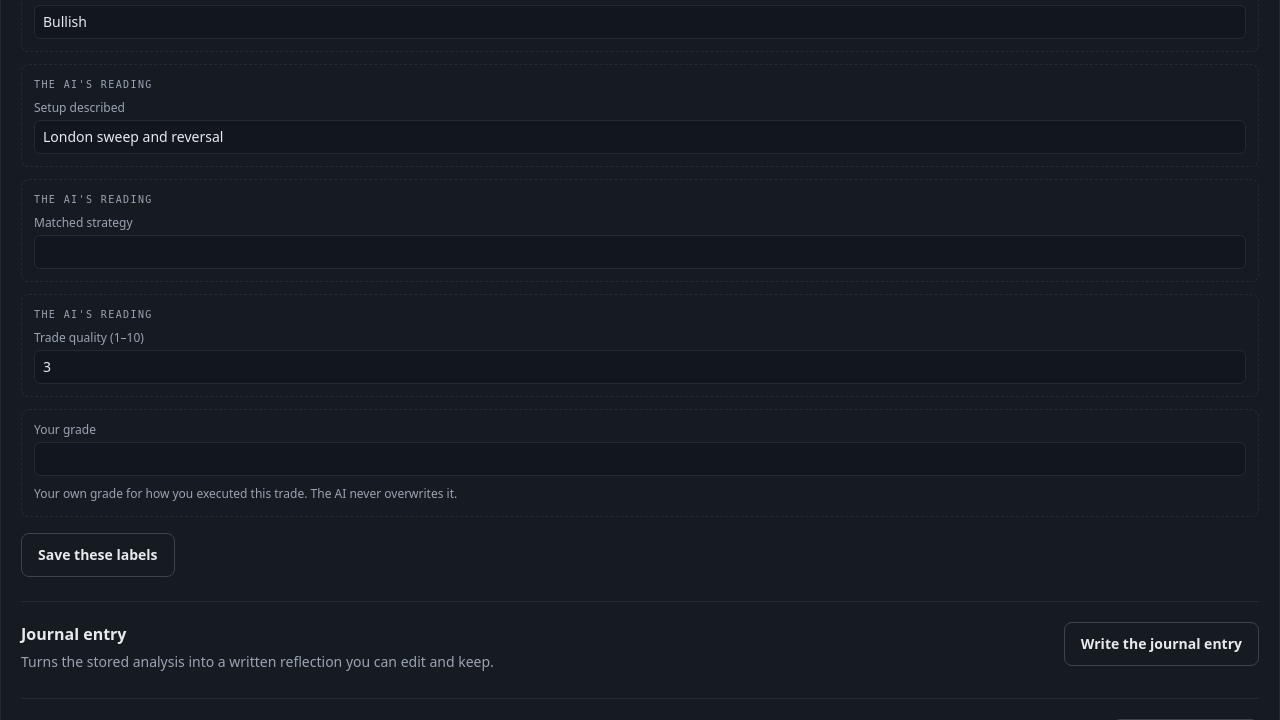
AIReviewPanel › surfaces the backend's 409 sentence if the analysis vanished under a journal run
(page scrolled)
Click the button "Write the journal entry" at {"x": 1161, "y": 644}, box [1064, 622, 1259, 666]
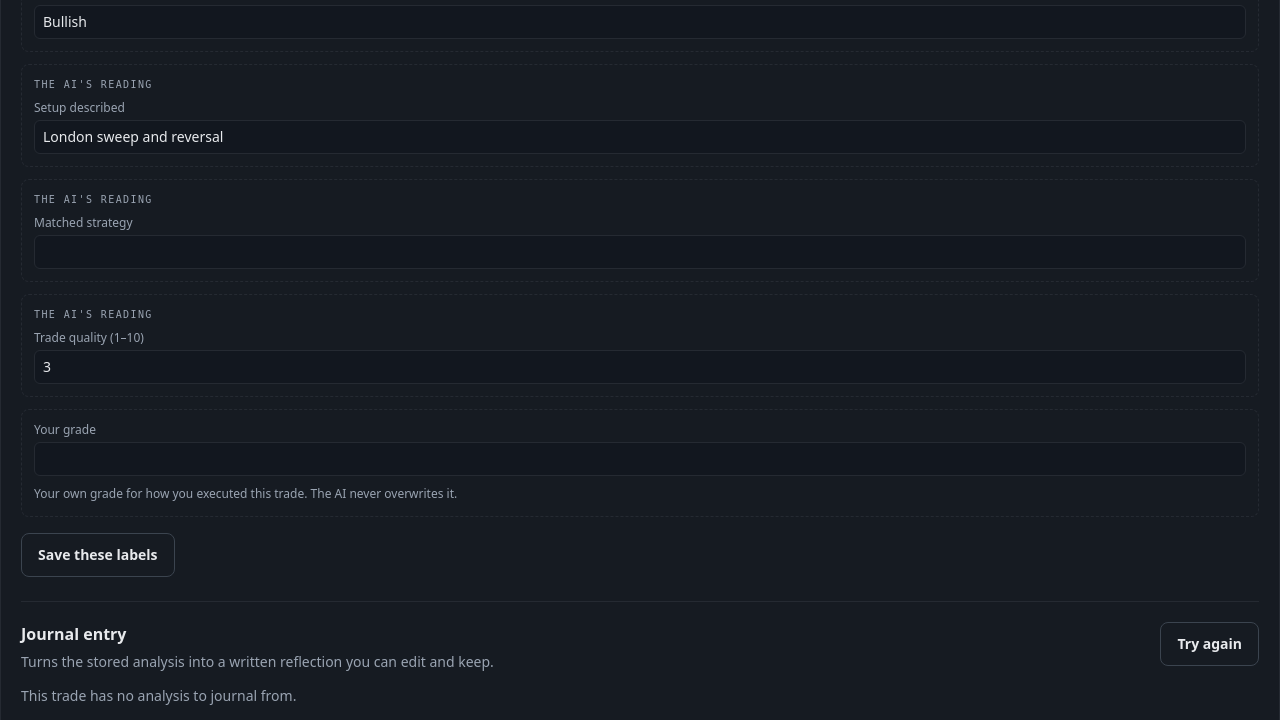
Expected: the text "This trade has no analysis to journal from." is shown, [21, 686, 296, 705]
